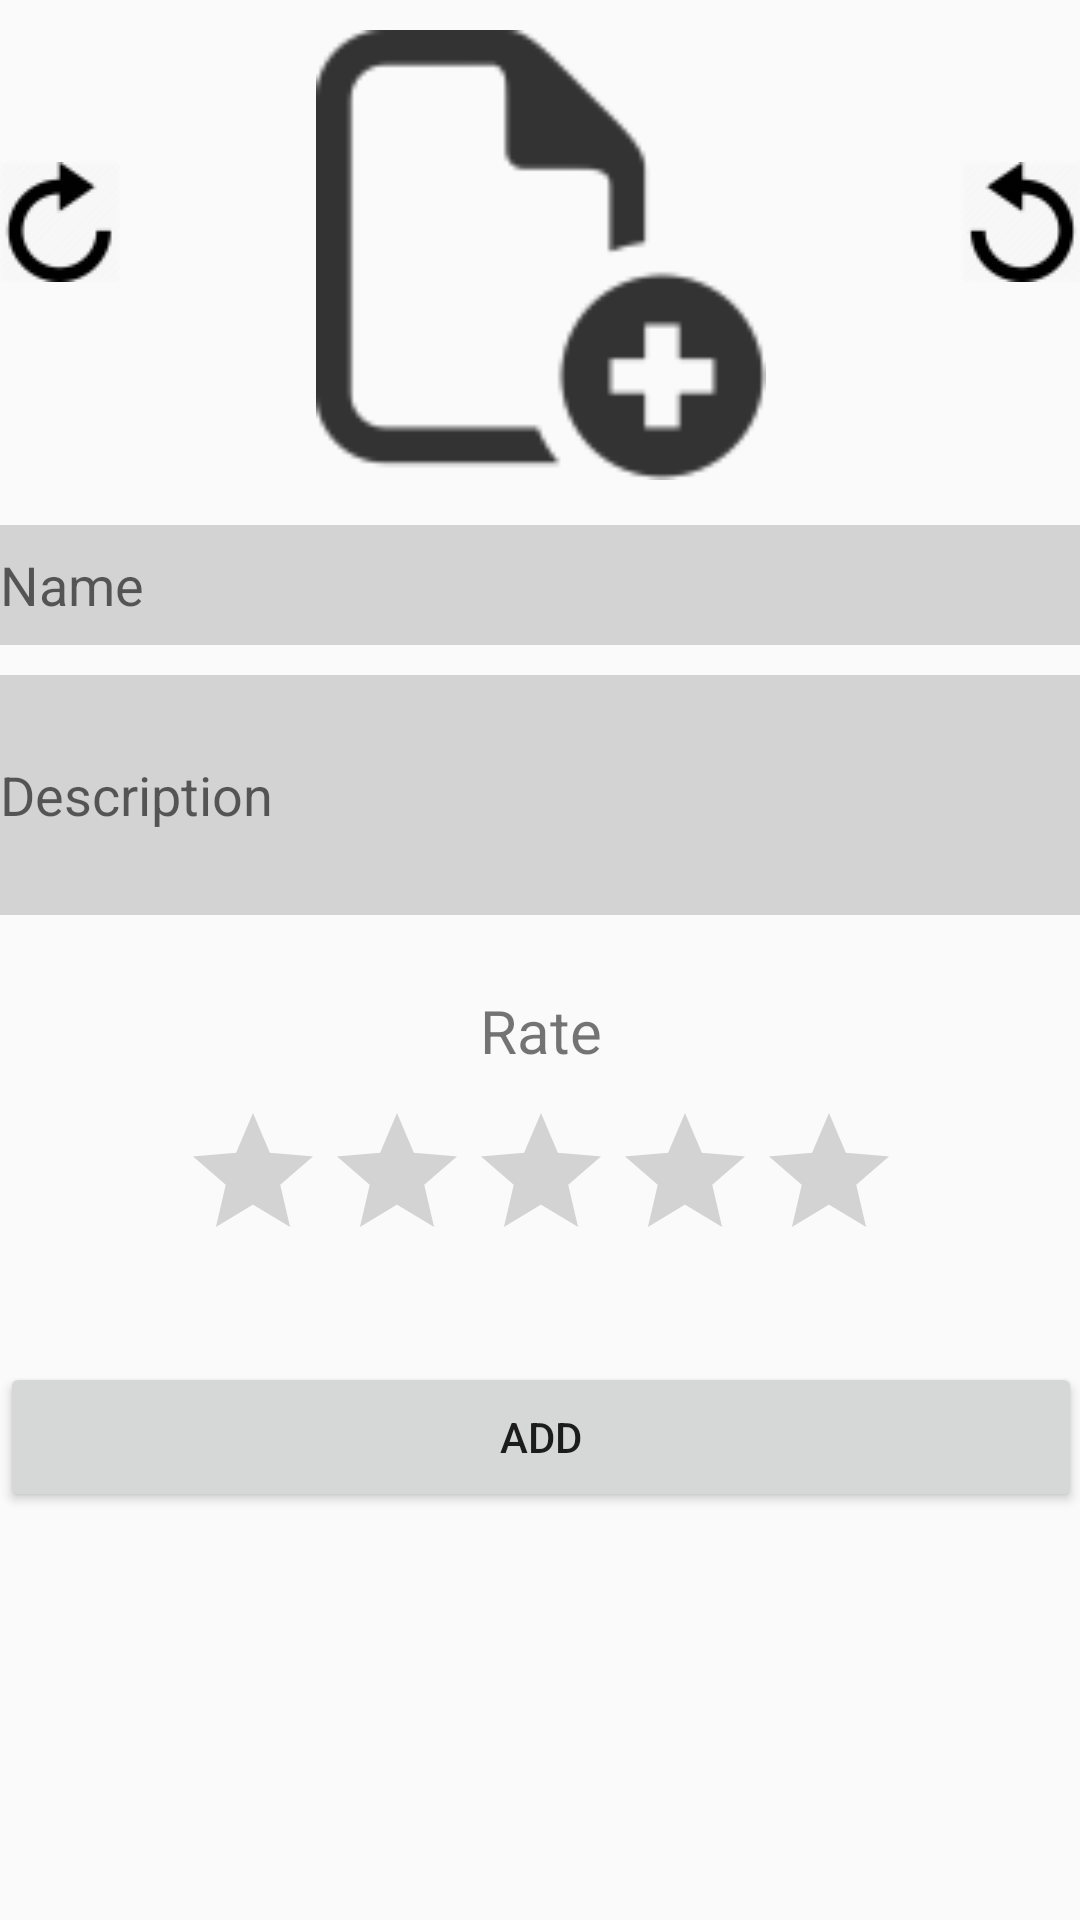

Where icons sit on this 1080px x 1920px app screen, as box(x1, y1, x2, y2):
rotate left: box(970, 162, 1075, 282)
rotate right: box(6, 162, 112, 282)
